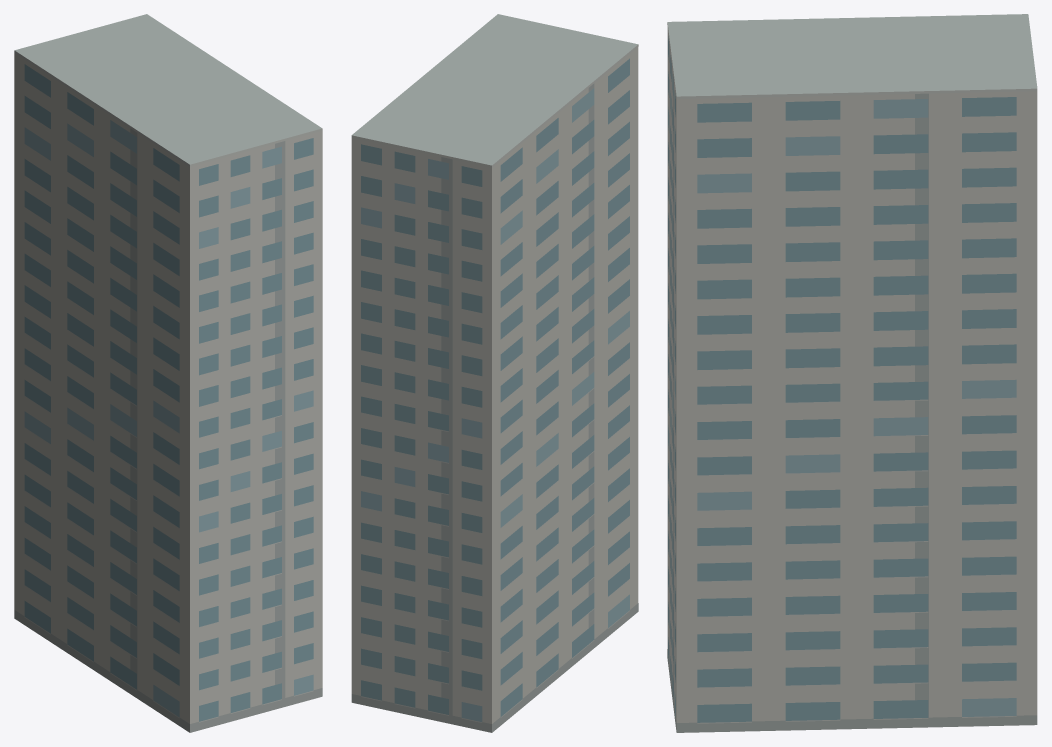
File: residential-a1a62e16-04cd-40c8-8b2d-8ad99aa821dd.glb
The picture shows the model from 3 angles, left to right: view 1: azimuth 30°, elevation 25°; view 2: azimuth 150°, elevation 25°; view 3: azimuth 270°, elevation 25°; orthographic projection. The views are drawn at different scales.
Visible parts, largest first — view 1: residential-a1a62e16-04cd-40c8-8b2d-8ad99aa821dd.tmp; view 2: residential-a1a62e16-04cd-40c8-8b2d-8ad99aa821dd.tmp; view 3: residential-a1a62e16-04cd-40c8-8b2d-8ad99aa821dd.tmp.
Part boxes in pixels (x1=…): residential-a1a62e16-04cd-40c8-8b2d-8ad99aa821dd.tmp: x1=14, y1=14, x2=322, y2=732; residential-a1a62e16-04cd-40c8-8b2d-8ad99aa821dd.tmp: x1=351, y1=14, x2=638, y2=732; residential-a1a62e16-04cd-40c8-8b2d-8ad99aa821dd.tmp: x1=667, y1=14, x2=1037, y2=732.
Size of the model in its own units: 16.71 by 60 by 31.63.
